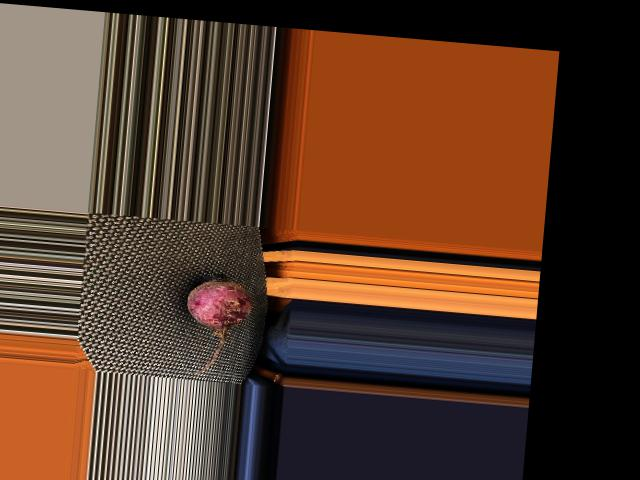beet: (182, 269, 255, 376)
